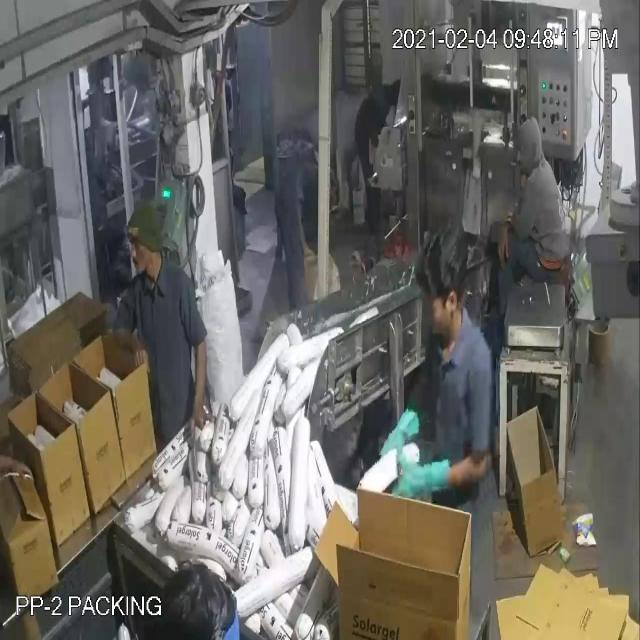gloves: (353, 397, 427, 482), (388, 450, 464, 518)
no-gloves: (106, 300, 154, 382), (190, 324, 220, 444), (495, 198, 523, 283)
